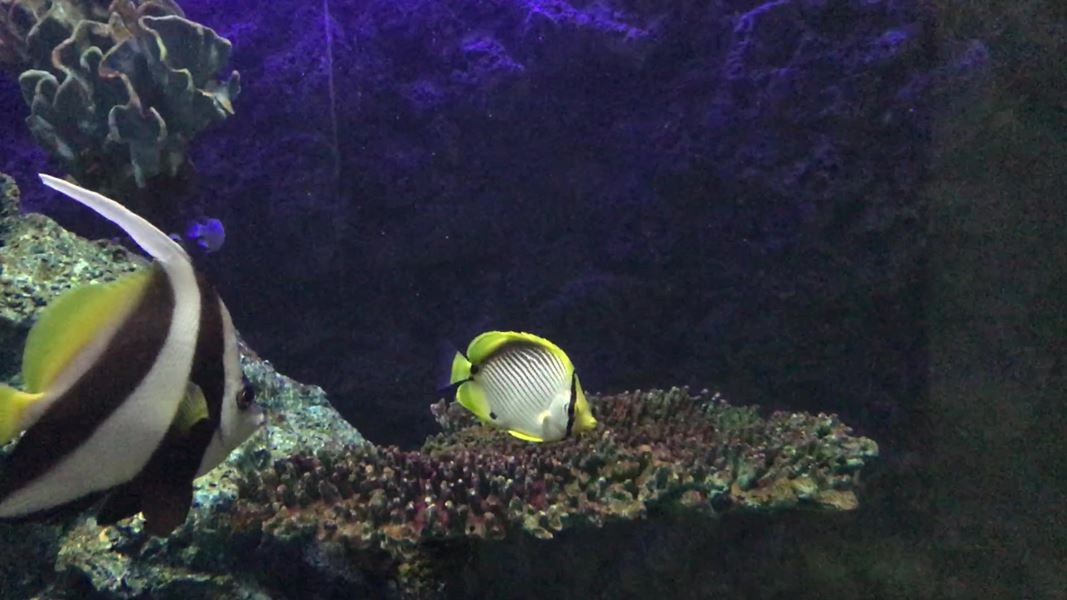Black-backed butterflyfish: (426, 320, 608, 452)
